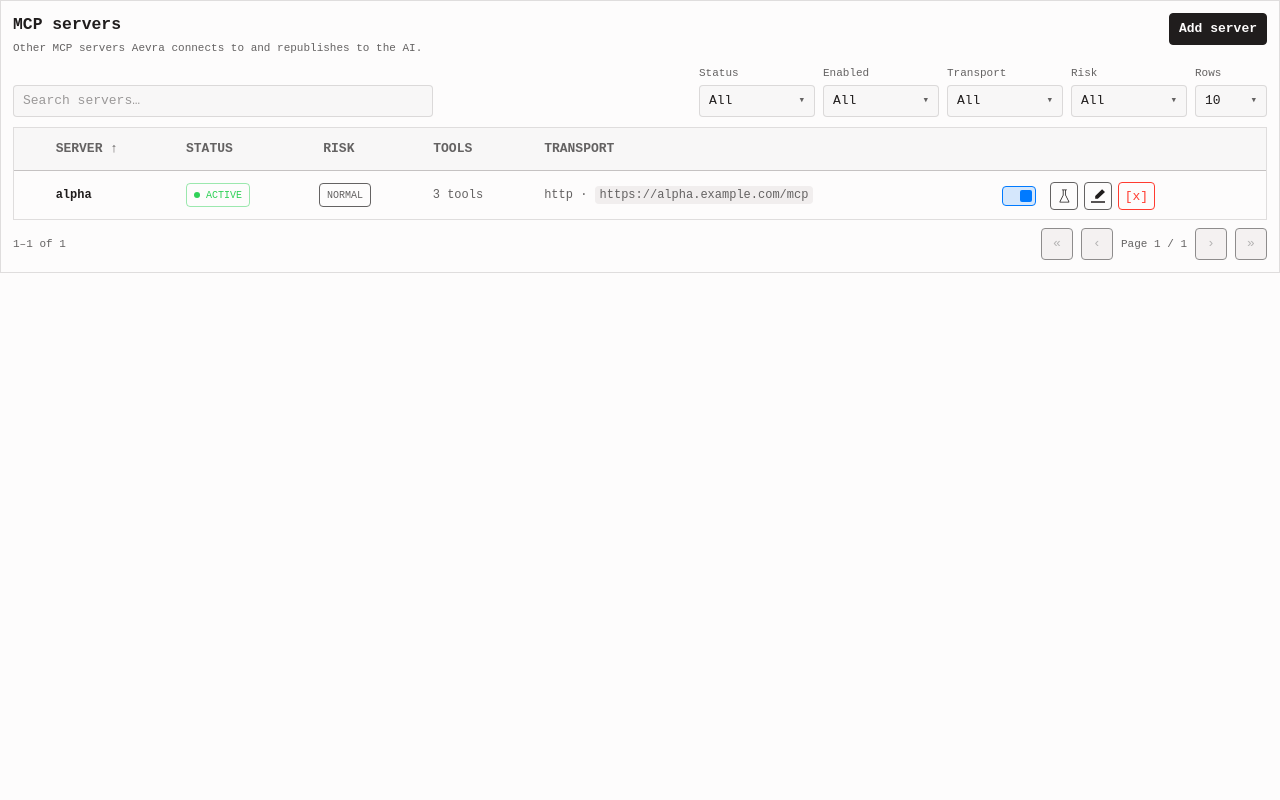
McpUpstreamsSettings default services › stringifies a non-Error action failure
Click the button named "Test alpha".
click(1064, 196)  # box x1=1050 y1=182 x2=1078 y2=210
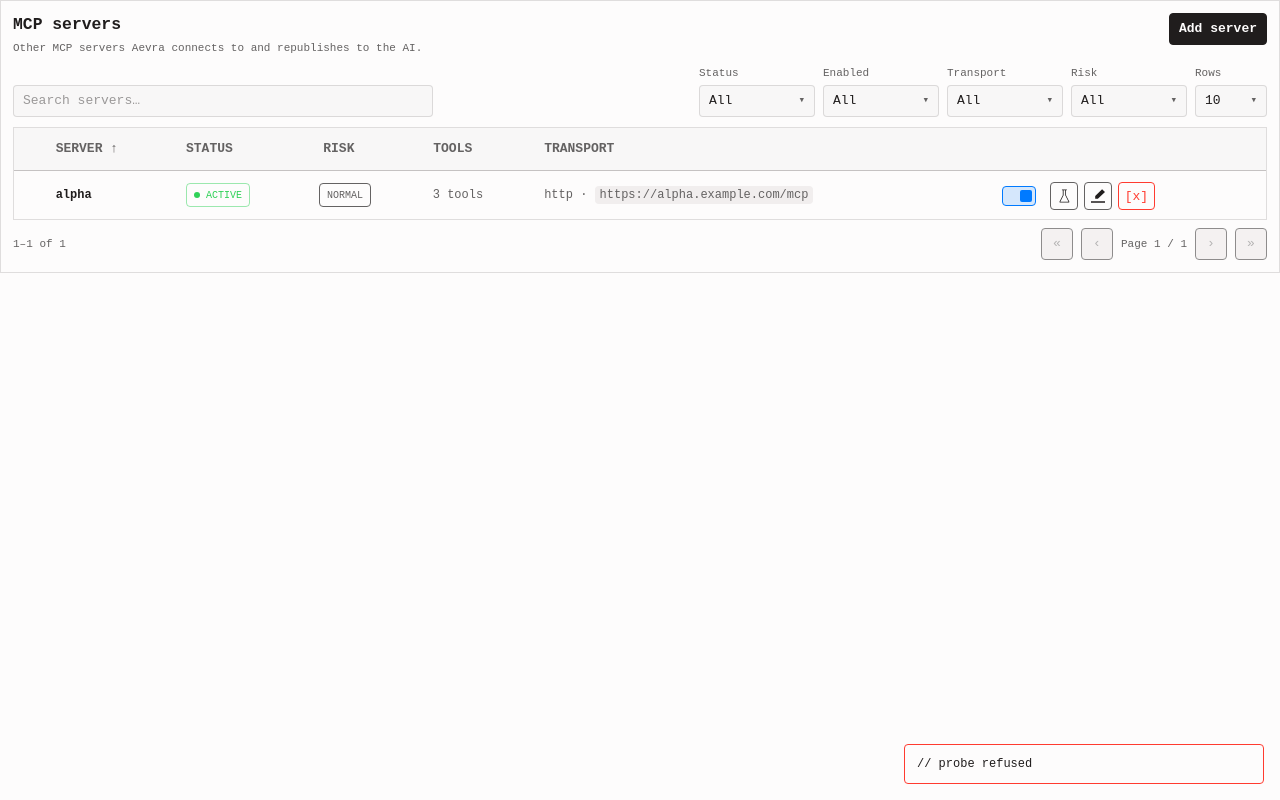
Expected: the message reads "probe refused", x1=939 y1=757 x2=1032 y2=771
